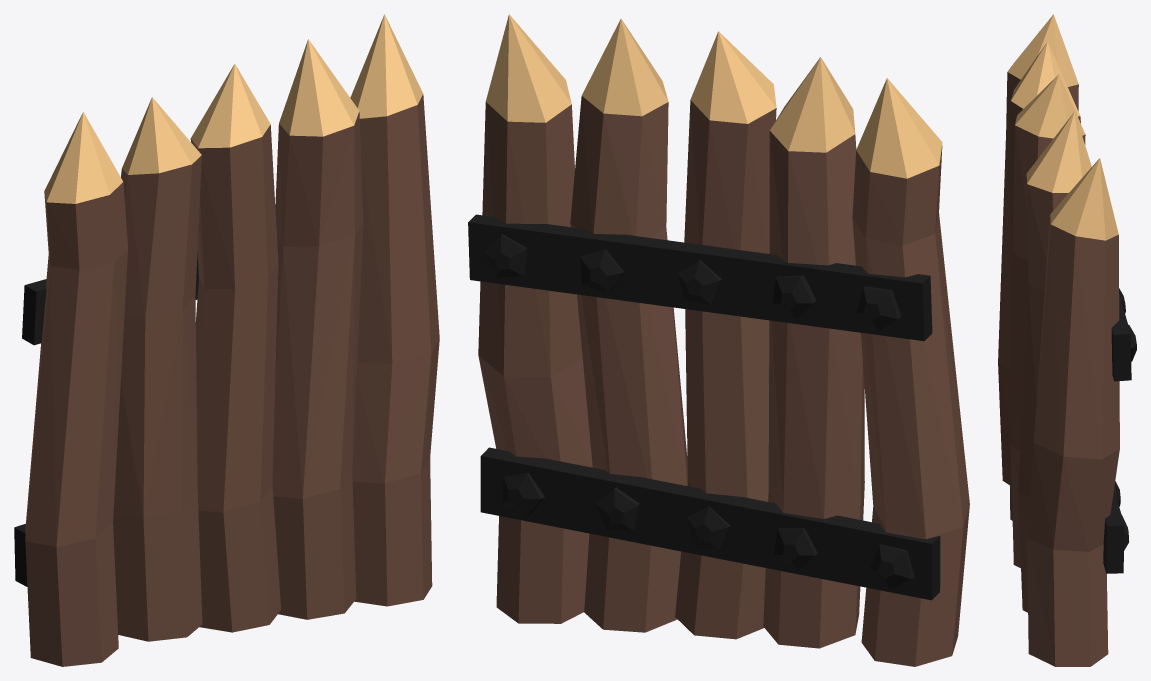
Rendered from Gate - Game Asset.glb.
3 renders of one model, left to right at view 1: azimuth 30°, elevation 25°; view 2: azimuth 150°, elevation 25°; view 3: azimuth 270°, elevation 25°, orthographic. The views are drawn at different scales.
Parts seen in each view (by area): view 1: group492324465; view 2: group492324465; view 3: group492324465.
Boxes of the visible parts, bbox=[...] form: group492324465: bbox=[14, 14, 439, 666]; group492324465: bbox=[468, 14, 969, 666]; group492324465: bbox=[998, 14, 1136, 666].
Bounding box in the file's own units: 0.5687 × 0.7291 × 0.1797.
